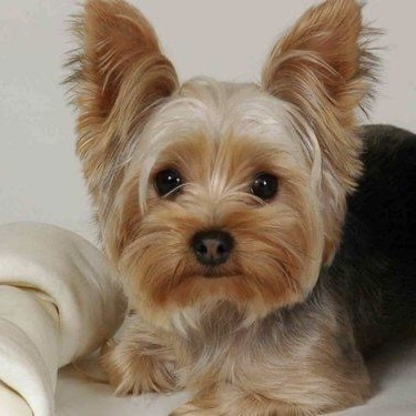yorkshire: (66, 3, 412, 411)
